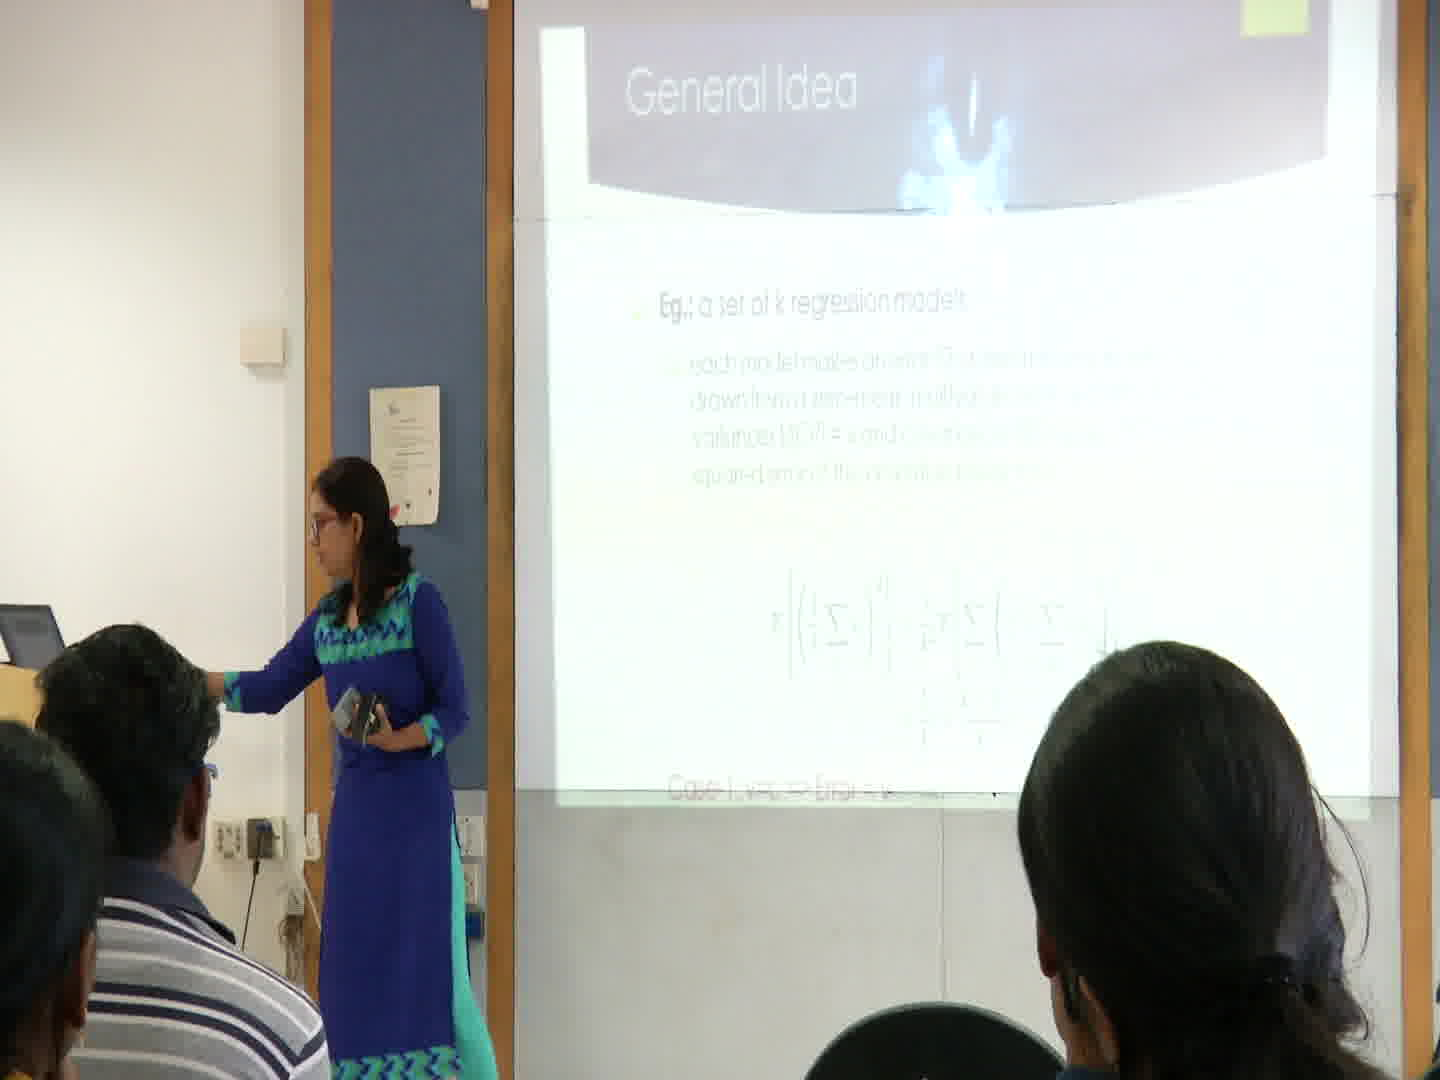slide: (544, 1, 1373, 819)
